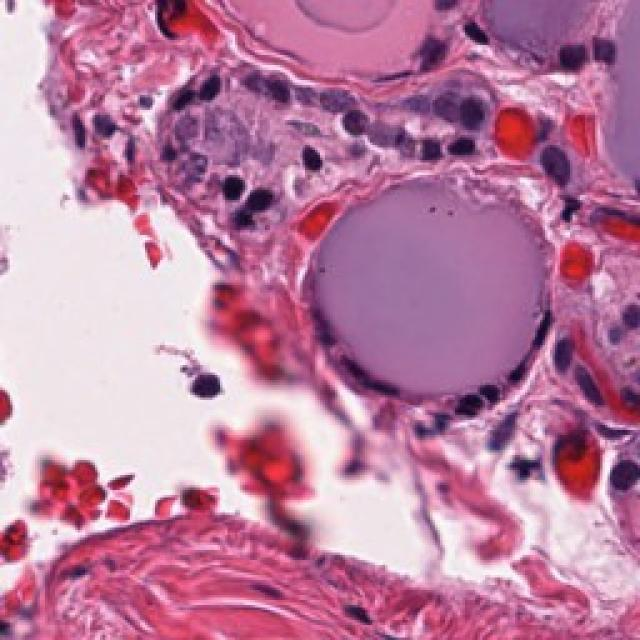normal: (195, 162, 266, 220), (526, 133, 583, 205), (538, 320, 587, 380), (310, 74, 362, 130), (443, 118, 487, 174), (496, 350, 541, 395), (453, 81, 493, 131), (197, 59, 233, 113), (441, 382, 483, 424), (407, 126, 449, 166)
